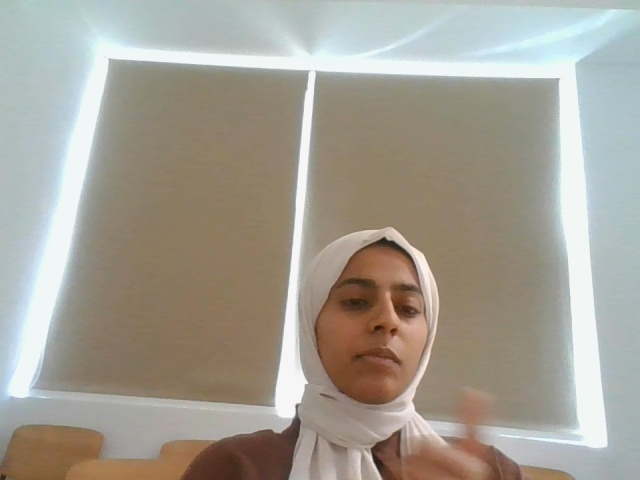help: (396, 384, 503, 480)
